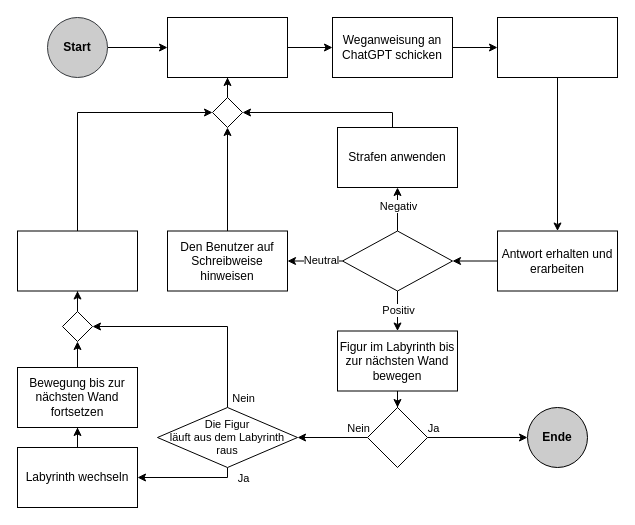
Image size: 635x525. Some labels were removed from this diagram. Here are the shapes that lost their labels. From the top down, the box of each, then its label:
(166, 16, 288, 78): Benutzer gibt eine Weganweisung
(496, 16, 618, 78): ChatGPT gibt eine Antwort zurück
(16, 230, 138, 291): Die Figur vor der Wand anhalten
(342, 230, 452, 291): Die Antwort ist
(366, 406, 428, 468): Finish erreicht
